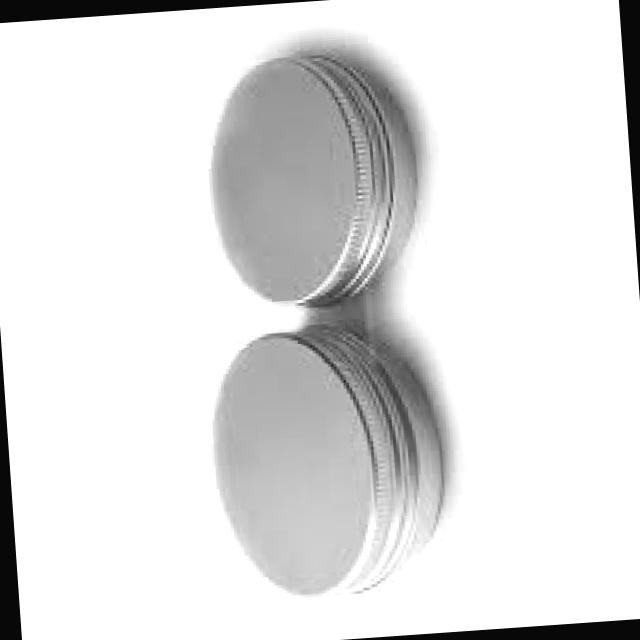metal: (214, 327, 442, 595), (212, 57, 415, 307)
